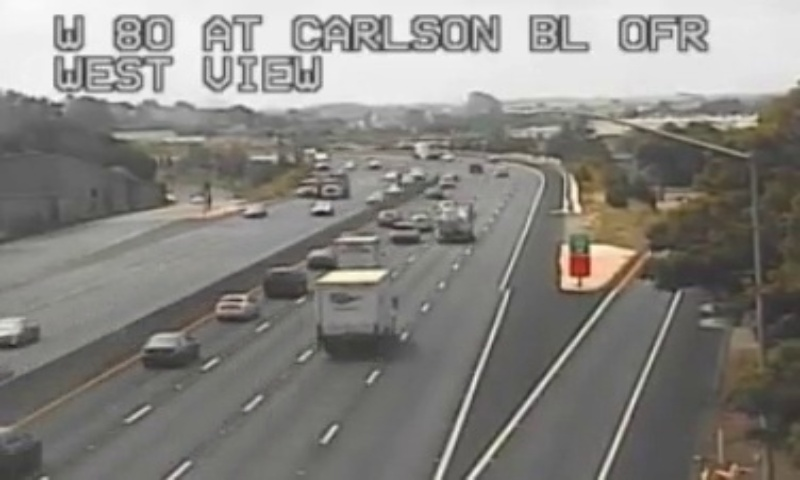car: (141, 332, 198, 366), (263, 267, 304, 295), (214, 294, 255, 321), (304, 249, 334, 268)
small-truck: (314, 268, 393, 348), (331, 236, 378, 268)
